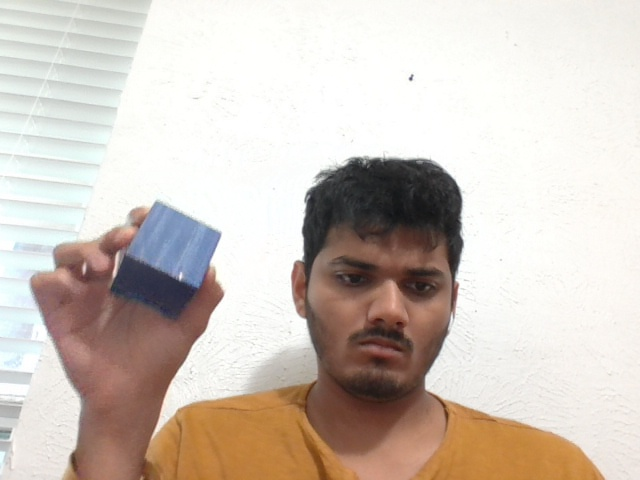BlueBlock: (128, 201, 221, 283)
